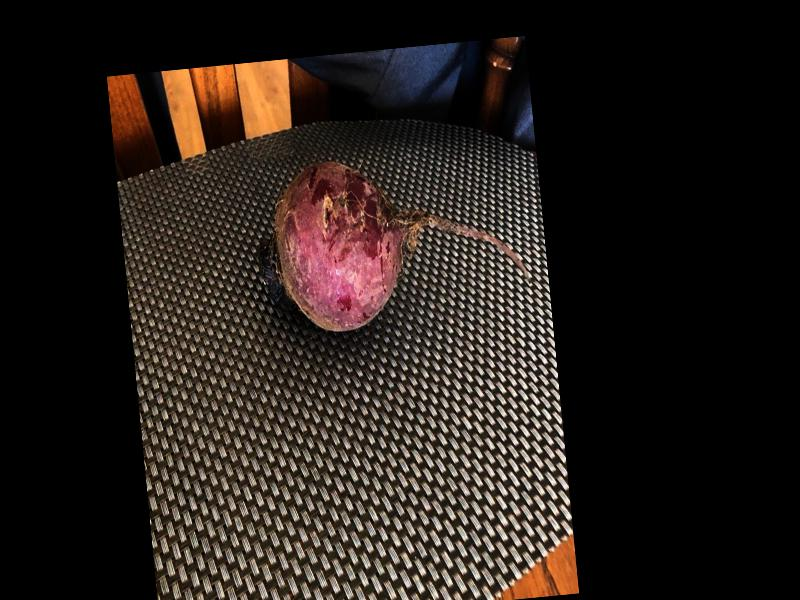Beet: (246, 141, 528, 338)
